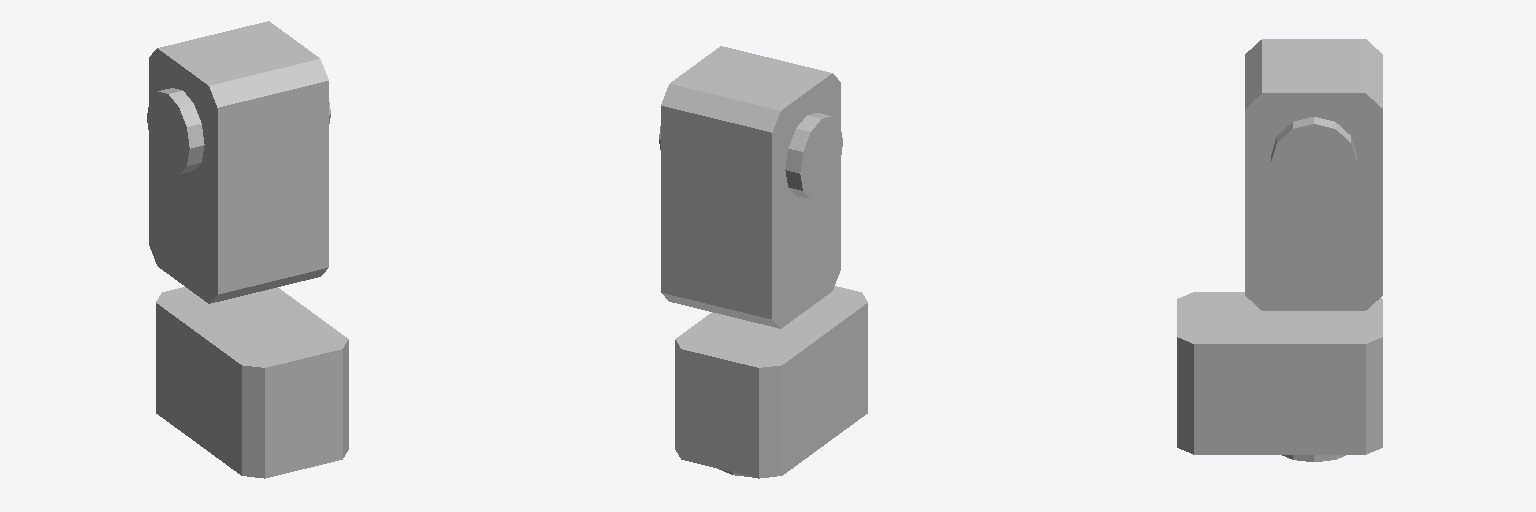
File: rightArm2.obj
3 renders of one model, left to right at view 1: azimuth 30°, elevation 25°; view 2: azimuth 150°, elevation 25°; view 3: azimuth 270°, elevation 25°, orthographic.
Parts seen in each view (by area): view 1: unnamed_object1; view 2: unnamed_object1; view 3: unnamed_object1.
Boxes of the visible parts, box(x1,y1,x2,y2) form: unnamed_object1: box(147, 21, 348, 478); unnamed_object1: box(659, 46, 867, 478); unnamed_object1: box(1177, 39, 1382, 461).
Size of the model in its own units: 4.75 by 12.2 by 6.